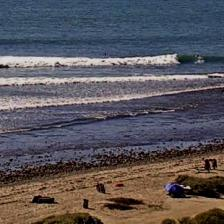surfer: (103, 53, 110, 55), (197, 55, 199, 58)
